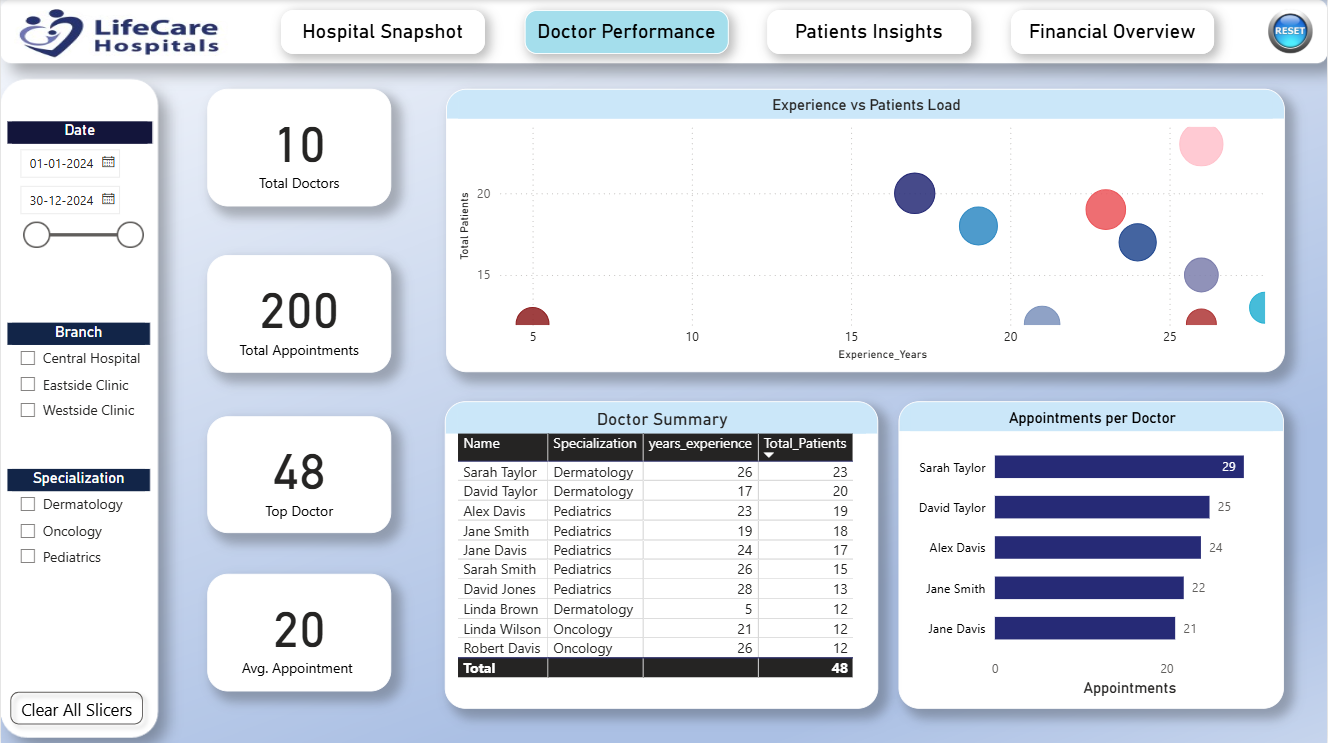

The page's visual inventory and layout, read from the dashboard file:
{"tool":"powerbi","page":{"name":"Doctors & Appointments ","canvas":[1280,720],"ordinal":1},"visuals":[{"type":"barChart","title":"Appointments per Doctor","fields":{"Category":["Doctors.full_name"],"Y":["Appointments.appointment_id"]},"box":[866.3,386.9,372.3,296.9],"z":0},{"type":"tableEx","title":"Doctor Summary","fields":{"Values":["Doctors.full_name","Doctors.specialization","Doctors.years_experience","Appointments.patient_id"]},"box":[428.3,386.9,418.6,296.9],"z":1000},{"type":"scatterChart","title":"Experience vs Patients Load","fields":{"Series":["Appointments.doctor_id"],"Size":["Appointments.appointment_id"],"Y":["Appointments.patient_id"],"X":["Doctors.years_experience"]},"box":[429.5,85.7,809.5,273.9],"z":2000},{"type":"slicer","title":"Branch","fields":{"Values":["Doctors.hospital_branch"]},"box":[6,311.3,137.5,114.6],"z":3000},{"type":"slicer","title":"Specialization","fields":{"Values":["Doctors.specialization"]},"box":[6,452.4,137.5,107.4],"z":4000},{"type":"slicer","title":"Date","fields":{"Values":["Appointments.appointment_date"]},"box":[6,117,139.9,138.7],"z":5000},{"type":"card","fields":{"Values":["Doctors.doctor_id"]},"box":[199.1,85.7,177.3,113.4],"z":6000},{"type":"card","fields":{"Values":["Doctors.Top Doctor"]},"box":[199.1,401.7,177.3,113],"z":7000},{"type":"card","fields":{"Values":["Appointments.Avg. Apt per doctors"]},"box":[199.1,553.8,177.3,113.4],"z":8000},{"type":"actionButton","box":[0,658.7,146,49.5],"z":9000},{"type":"card","fields":{"Values":["Appointments.appointment_id"]},"box":[199.1,246.1,177.3,113.4],"z":10000},{"type":"textbox","box":[270,10,196.6,42],"z":11000},{"type":"textbox","box":[505,10,196.6,42],"z":12000},{"type":"textbox","box":[740,10,196.6,42],"z":13000},{"type":"textbox","box":[975,10,196,42],"z":14000},{"type":"image","box":[0,0,234,61.5],"z":15000},{"type":"actionButton","box":[270.2,9.7,196.6,42.2],"z":16000},{"type":"actionButton","box":[505.5,9.7,196.6,42.2],"z":17000},{"type":"actionButton","box":[739.5,9.7,196.6,42.2],"z":18000},{"type":"actionButton","box":[974.8,10.9,195.4,42.2],"z":19000},{"type":"image","box":[1214.9,3.6,59.1,53],"z":19001}]}

Visuals, with their boxes in screenshot pixels (x1, y1, x2, y2), scaled from the page's 1280x720 canvas onto the 1328x743 screenshot:
"Appointments per Doctor" barChart: {"x1": 899, "y1": 399, "x2": 1285, "y2": 706}
"Doctor Summary" tableEx: {"x1": 444, "y1": 399, "x2": 879, "y2": 706}
"Experience vs Patients Load" scatterChart: {"x1": 446, "y1": 88, "x2": 1285, "y2": 371}
"Branch" slicer: {"x1": 6, "y1": 321, "x2": 149, "y2": 440}
"Specialization" slicer: {"x1": 6, "y1": 467, "x2": 149, "y2": 578}
"Date" slicer: {"x1": 6, "y1": 121, "x2": 151, "y2": 264}
card - Doctors.doctor_id: {"x1": 207, "y1": 88, "x2": 391, "y2": 205}
card - Doctors.Top Doctor: {"x1": 207, "y1": 415, "x2": 391, "y2": 531}
card - Appointments.Avg. Apt per doctors: {"x1": 207, "y1": 571, "x2": 391, "y2": 689}
actionButton: {"x1": 0, "y1": 680, "x2": 151, "y2": 731}
card - Appointments.appointment_id: {"x1": 207, "y1": 254, "x2": 391, "y2": 371}
textbox: {"x1": 280, "y1": 10, "x2": 484, "y2": 54}
textbox: {"x1": 524, "y1": 10, "x2": 728, "y2": 54}
textbox: {"x1": 768, "y1": 10, "x2": 972, "y2": 54}
textbox: {"x1": 1012, "y1": 10, "x2": 1215, "y2": 54}
image: {"x1": 0, "y1": 0, "x2": 243, "y2": 63}
actionButton: {"x1": 280, "y1": 10, "x2": 484, "y2": 54}
actionButton: {"x1": 524, "y1": 10, "x2": 728, "y2": 54}
actionButton: {"x1": 767, "y1": 10, "x2": 971, "y2": 54}
actionButton: {"x1": 1011, "y1": 11, "x2": 1214, "y2": 55}
image: {"x1": 1260, "y1": 4, "x2": 1322, "y2": 58}
